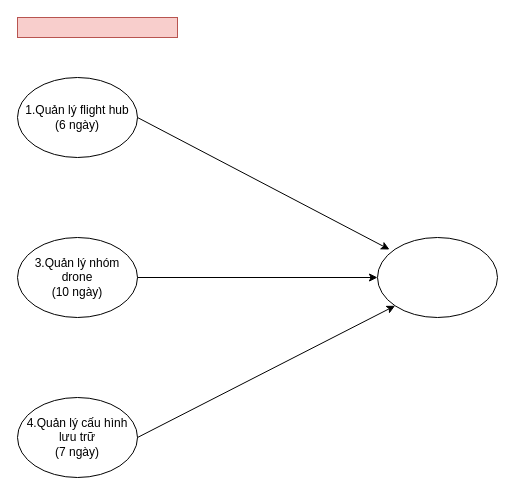
Some shapes in this 515 by 495 pixel diagram are drawn without their labels. Each missing label, with the centre of its shape:
2.Quản lý đợt giám sát (8 ngày): (x=437, y=277)
Dịch vụ quản lý Flight Hub: (x=97, y=27)
